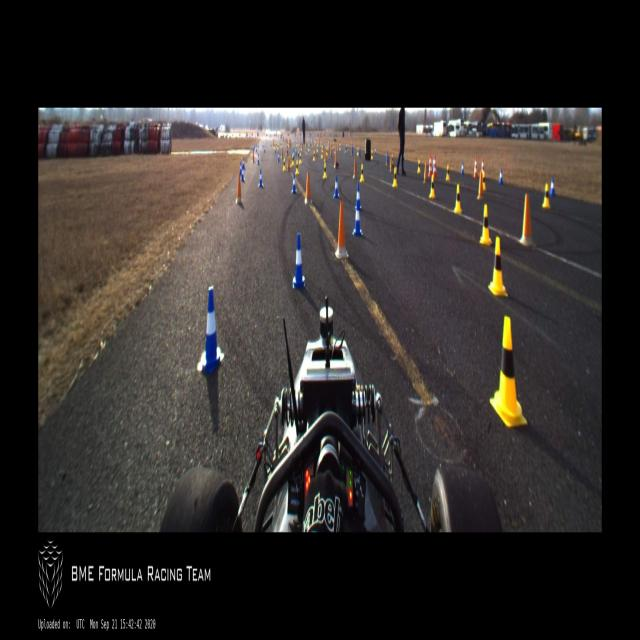blue_cone: (197, 285, 224, 373), (292, 232, 306, 288), (352, 201, 363, 235), (355, 184, 361, 210), (333, 176, 339, 198), (258, 170, 264, 187), (550, 177, 555, 196), (292, 173, 296, 193), (499, 169, 503, 185), (241, 168, 244, 182), (461, 163, 464, 175), (242, 157, 245, 169), (257, 154, 260, 164), (277, 152, 280, 162), (240, 162, 242, 174), (292, 150, 294, 159)
large_orange_cone: (428, 154, 433, 177), (473, 156, 478, 178), (433, 154, 437, 177), (482, 156, 484, 171)
unknown_cone: (518, 193, 536, 246), (334, 200, 348, 258), (304, 170, 312, 204), (476, 171, 484, 200), (235, 173, 242, 204), (352, 157, 358, 179), (423, 162, 428, 183), (334, 152, 338, 169), (389, 155, 393, 172), (251, 150, 255, 163), (287, 154, 290, 171), (386, 150, 389, 166), (324, 149, 327, 162), (351, 144, 354, 156), (330, 145, 332, 158), (281, 147, 283, 158), (359, 145, 360, 156)
yellow_cone: (490, 317, 527, 426), (488, 237, 507, 295), (480, 204, 492, 244), (454, 183, 462, 214), (542, 183, 551, 208), (429, 175, 436, 198), (392, 168, 398, 187), (360, 164, 364, 182), (482, 172, 486, 190), (323, 162, 327, 178), (446, 164, 450, 180), (295, 160, 299, 175), (282, 158, 286, 172), (417, 159, 421, 173), (299, 152, 302, 164), (292, 155, 294, 166), (313, 151, 315, 161), (371, 150, 373, 159), (321, 150, 323, 158), (392, 154, 393, 164)
